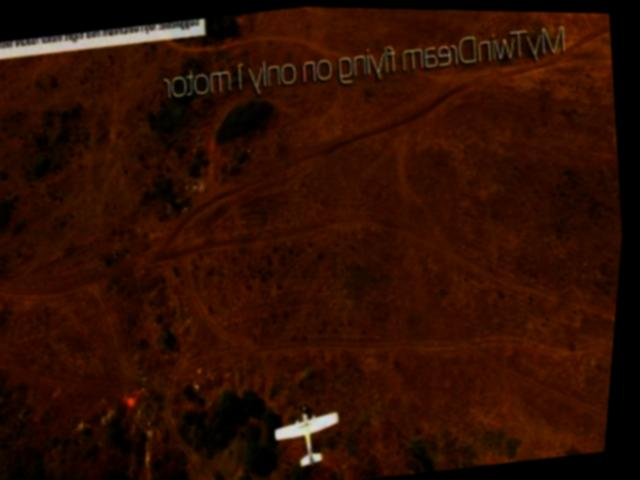uav: (268, 384, 362, 479)
